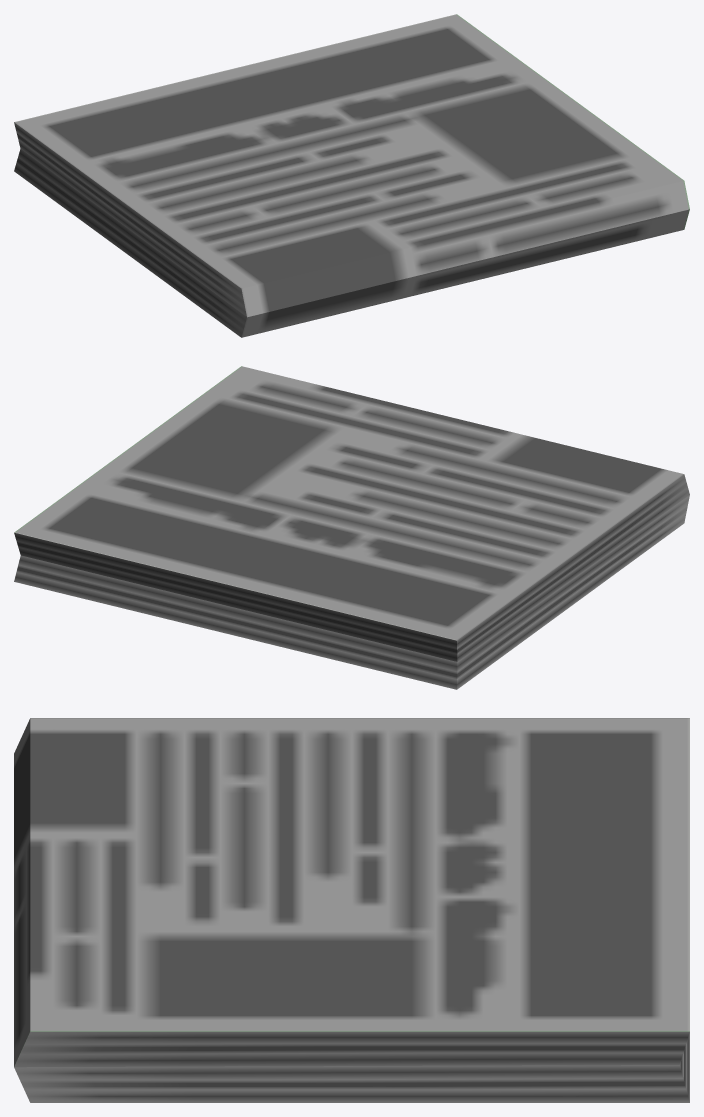
File: SW_PROP_Newspaper.fbx
The picture shows the model from 3 angles, top to bottom: view 1: azimuth 30°, elevation 25°; view 2: azimuth 150°, elevation 25°; view 3: azimuth 270°, elevation 25°; orthographic projection. The views are drawn at different scales.
Parts seen in each view (by area): view 1: SW_PROP_Newspaper; view 2: SW_PROP_Newspaper; view 3: SW_PROP_Newspaper.
Boxes of the visible parts, x1,y1,x2,y2 form: SW_PROP_Newspaper: (14,14,689,337); SW_PROP_Newspaper: (14,366,689,689); SW_PROP_Newspaper: (14,718,689,1102).
Size of the model in its own units: 40 by 4.24 by 36.46.
